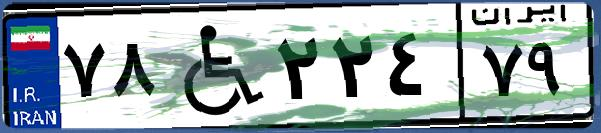2: (270, 28, 330, 110), (330, 28, 385, 110)
4: (385, 28, 445, 110)
7: (57, 26, 110, 100), (475, 38, 525, 113)
8: (110, 28, 158, 98)
9: (525, 38, 570, 115)
ژ (معلولین و جانبازان): (158, 12, 270, 120)
